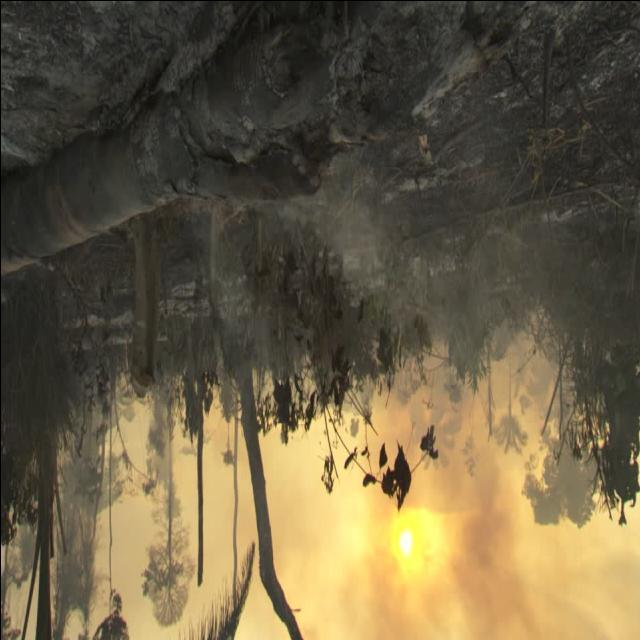Fire: (390, 508, 428, 588)
